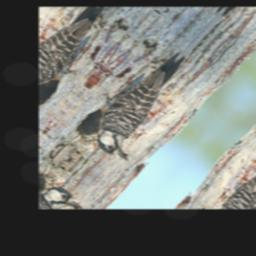Woodpecker: (70, 33, 213, 166)
